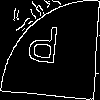P: (25, 24, 61, 73)
